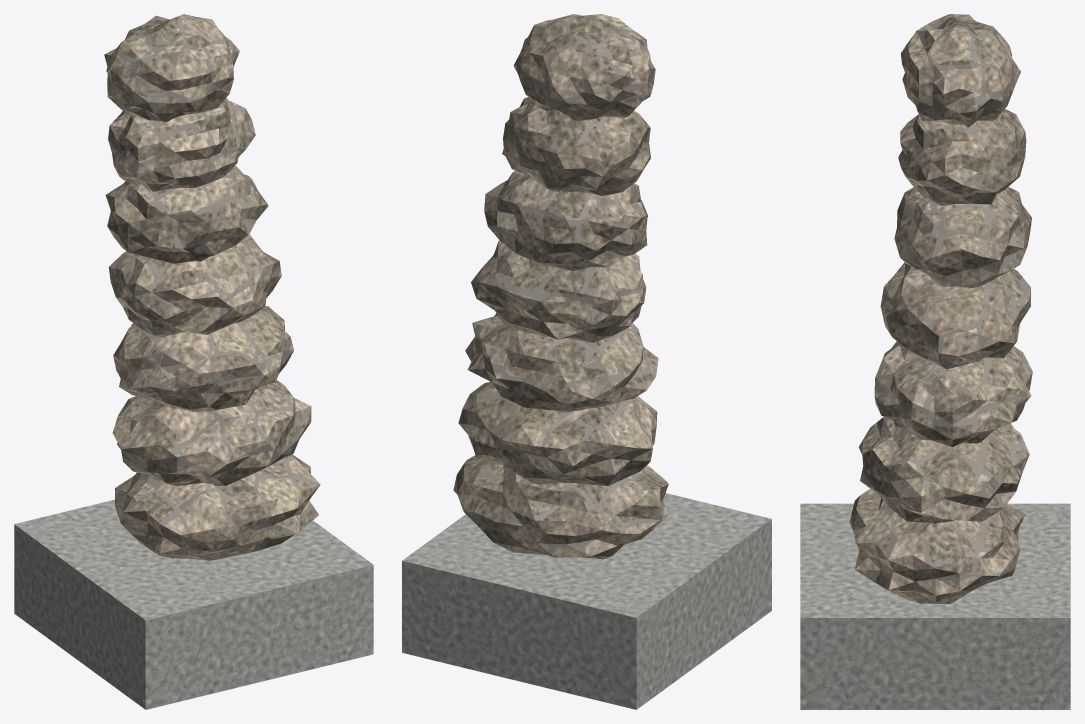
3 views of the same model, side by side, from view 1: azimuth 30°, elevation 25°; view 2: azimuth 150°, elevation 25°; view 3: azimuth 270°, elevation 25° (orthographic). The views are drawn at different scales.
Visible parts, largest first — view 1: baseOffset=0;depth=1;height=2;material=stone_wall;power=;ser (×2); view 2: baseOffset=0;depth=1;height=2;material=stone_wall;power=;ser (×2); view 3: baseOffset=0;depth=1;height=2;material=stone_wall;power=;ser (×2).
Boxes of the visible parts, x1,y1,x2,y2 form: baseOffset=0;depth=1;height=2;material=stone_wall;power=;ser (×2): [14, 14, 373, 709]; baseOffset=0;depth=1;height=2;material=stone_wall;power=;ser (×2): [402, 14, 771, 709]; baseOffset=0;depth=1;height=2;material=stone_wall;power=;ser (×2): [800, 14, 1070, 709].
Bounding box in the file's own units: 0.8132 × 0.8 × 2.04.
2 materials, 2 textured.
